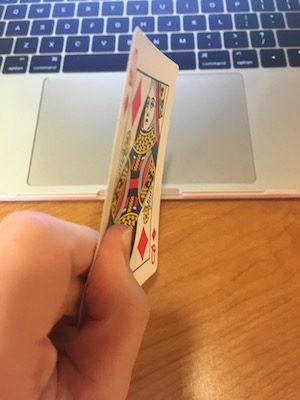QueenOfDiamonds: (64, 22, 182, 297)
